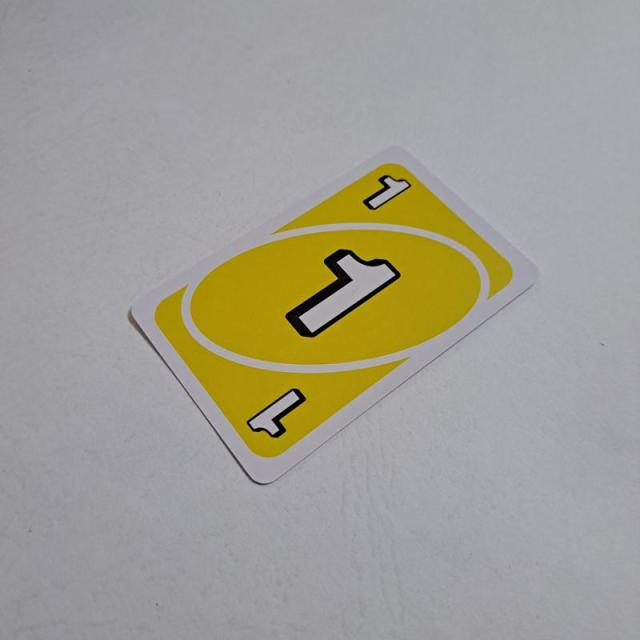Number_1: (358, 170, 418, 216)
Yellow_Card: (152, 155, 520, 461)
